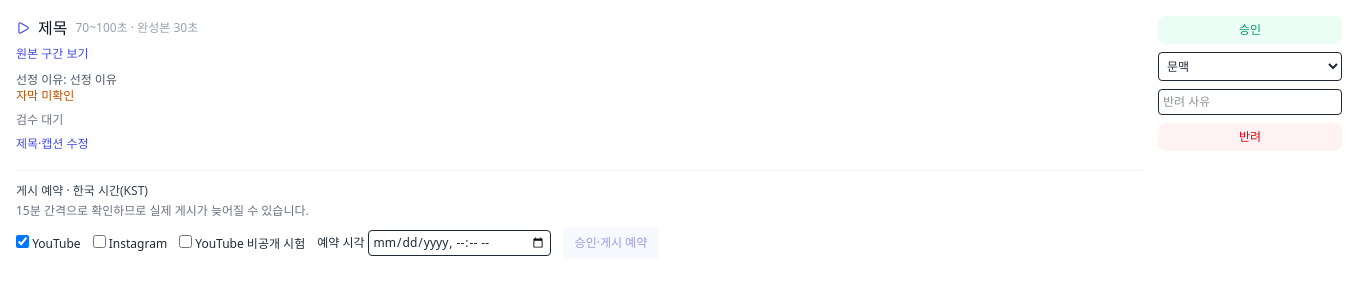
Test: labels legacy reasons separately from unverified speech and displays mutation failures
Expected: the text "자막 미확인" is shown, [16,87,74,104]
Expected: the text "선정 이유: 선정 이유" is shown, [16,71,117,88]
Click the button "승인". click: (1250, 30)
box: [1158,16,1342,44]
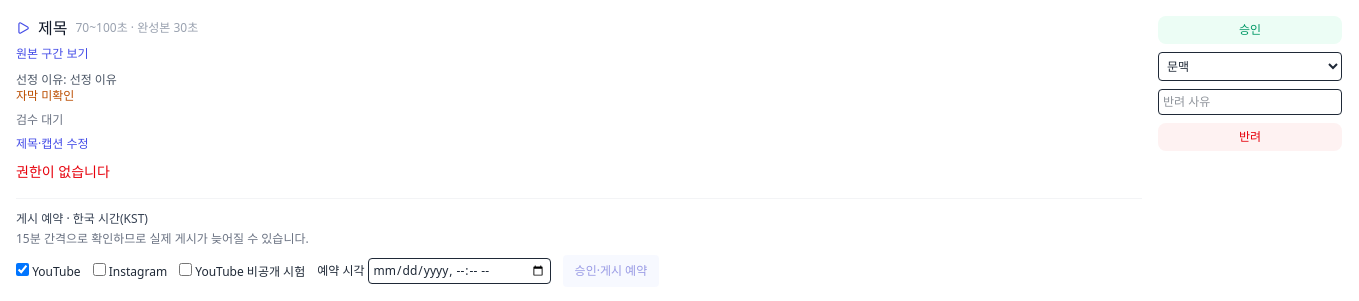
Expected: the message reads "권한이 없습니다", [16,162,110,181]
